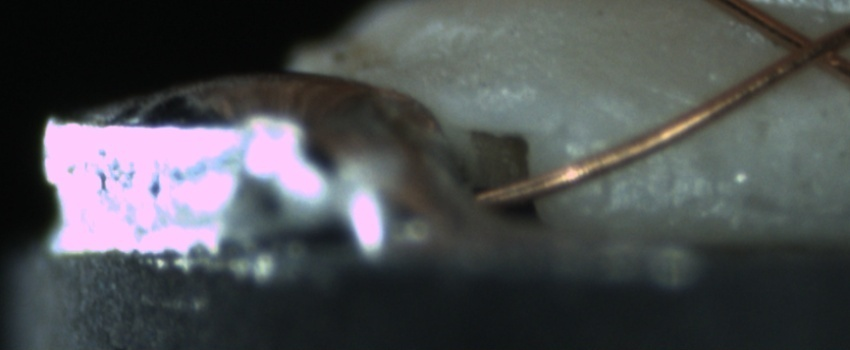CL: (763, 15, 847, 79)
